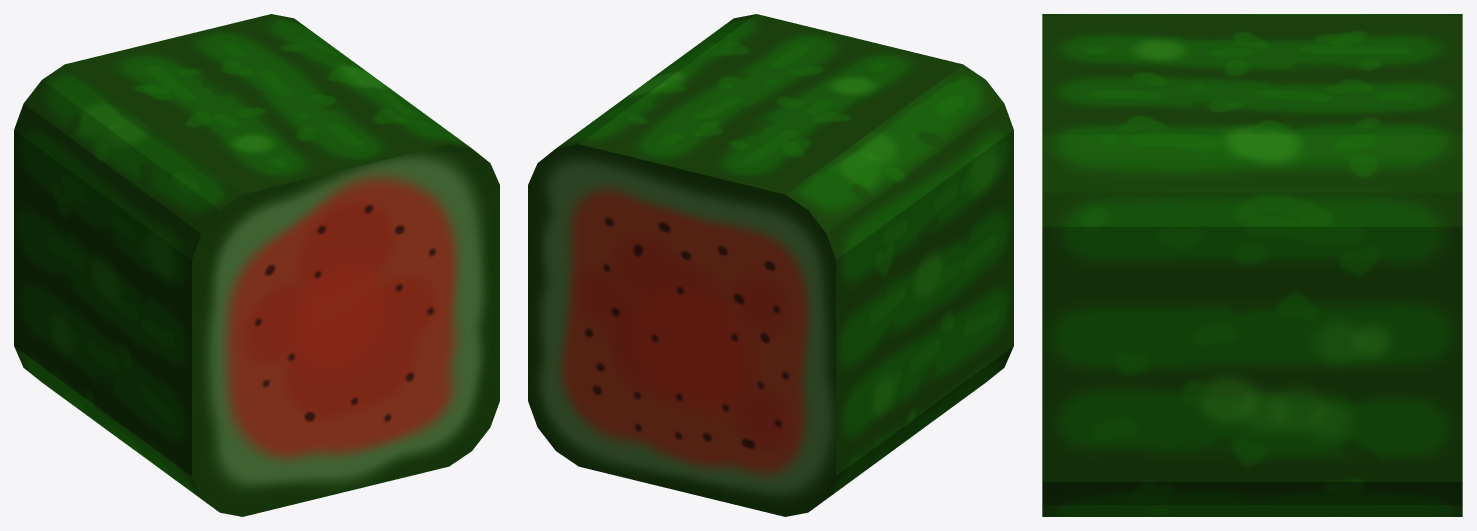
File: Watermelon.fbx
3 views of the same model, side by side, from view 1: azimuth 30°, elevation 25°; view 2: azimuth 150°, elevation 25°; view 3: azimuth 270°, elevation 25° (orthographic). The views are drawn at different scales.
Parts seen in each view (by area): view 1: Watermelon; view 2: Watermelon; view 3: Watermelon.
Part boxes in pixels (x1,y1,x2,y2): Watermelon: (14, 14, 499, 516); Watermelon: (528, 14, 1013, 516); Watermelon: (1042, 14, 1462, 516).
Size of the model in its own units: 0.9912 by 0.9912 by 0.9912.
